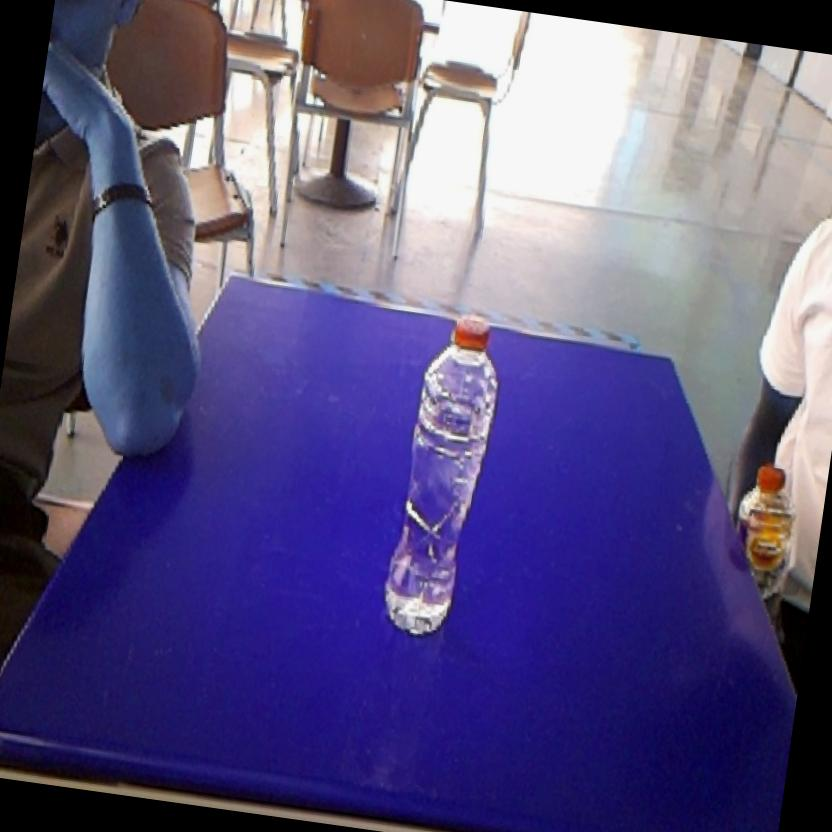no_label: (369, 290, 520, 652)
